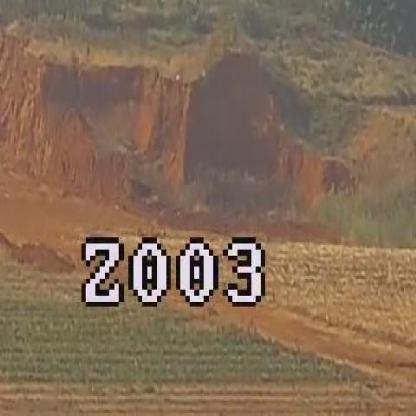other: (15, 31, 336, 236)
